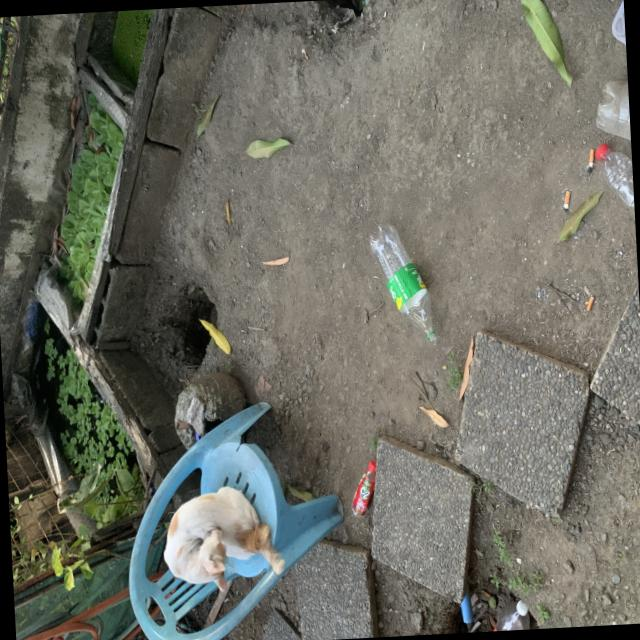Bottle: (370, 224, 437, 342)
